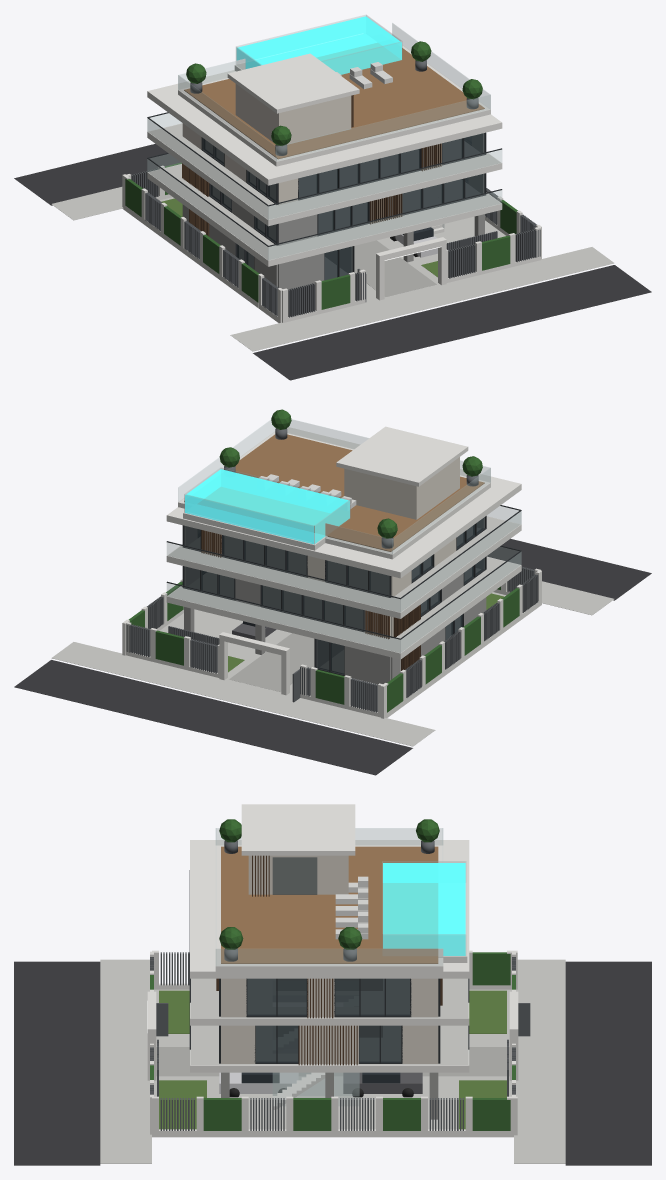
The model's file is residence-horizon.glb.
3 views of the same model, one above another, from view 1: azimuth 30°, elevation 25°; view 2: azimuth 150°, elevation 25°; view 3: azimuth 270°, elevation 25° (orthographic). The views are drawn at different scales.
Parts seen in each view (by area): view 1: sol-avenue, sol-toit, sol-trottoir, dalle-toit, sol-etage2, sol-etage1, eau, toit-edicule, sol-avenue.001, edicule, garde-corps-toit, garde-corps (+25 smaller); view 2: sol-avenue.001, sol-toit, sol-trottoir.001, eau, sol-etage2, sol-etage1, dalle-toit, toit-edicule, sol-avenue, edicule, garde-corps.001, garde-corps.004 (+26 smaller); view 3: sol-avenue, sol-avenue.001, sol-toit, sol-trottoir, sol-trottoir.001, dalle-toit, eau, sol-cour, toit-edicule, edicule, garde-corps-toit.002, acrotere (+36 smaller).
Boxes of the visible parts, x1,y1,x2,y2 form: sol-avenue: (253,265,651,380); sol-toit: (185,43,484,158); sol-trottoir: (230,247,614,351); dalle-toit: (147,70,502,185); sol-etage2: (149,123,459,219); sol-etage1: (149,164,459,259); eau: (236,16,401,74); toit-edicule: (227,53,359,113); sol-avenue.001: (14,144,180,205); edicule: (235,84,351,144); garde-corps-toit: (276,95,490,161); garde-corps: (268,190,501,260); sol-avenue.001: (14,660,412,775); sol-toit: (184,434,484,551); sol-trottoir.001: (51,642,435,746); eau: (185,469,349,544); sol-etage2: (209,516,519,612); sol-etage1: (209,557,519,652); dalle-toit: (166,427,521,578); toit-edicule: (336,426,468,486); sol-avenue: (487,538,651,600); edicule: (344,457,459,519); garde-corps.001: (167,583,400,652); garde-corps.004: (167,542,400,612); sol-avenue: (14,961,100,1165); sol-avenue.001: (565,961,651,1165); sol-toit: (221,846,438,963); sol-trottoir: (100,959,151,1163); sol-trottoir.001: (514,959,565,1163); dalle-toit: (190,840,469,978); eau: (383,863,465,955); sol-cour: (154,989,511,1129); toit-edicule: (241,804,355,855); edicule: (248,855,348,894); garde-corps-toit.002: (216,949,442,965); acrotere: (215,845,443,971).
Size of what is drawn, in the model's own units: 28 by 13.18 by 37.
